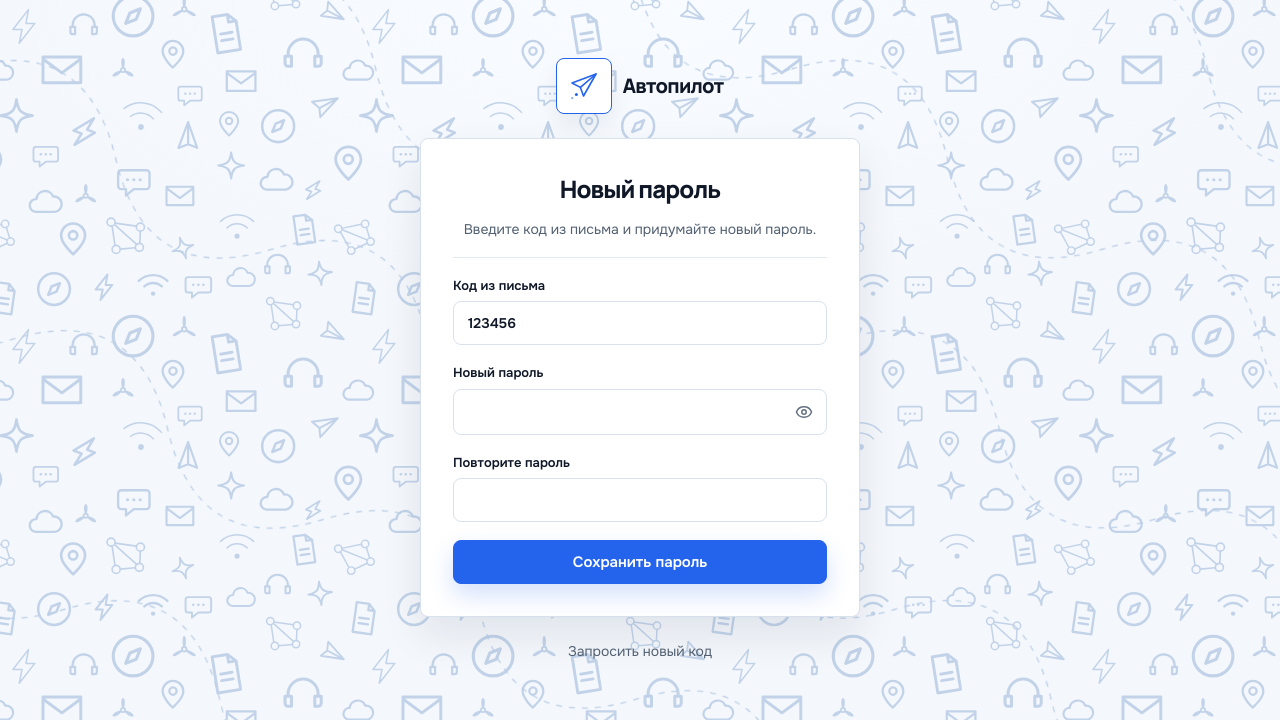
Test case: password reset pages › validates matching passwords and confirms the reset code
Expected: the field labelled "Код из письма" holds "123456", [453, 301, 827, 345]
Type "new-password" into the password field labelled "Новый пароль" at (620, 412), box [454, 390, 786, 434]
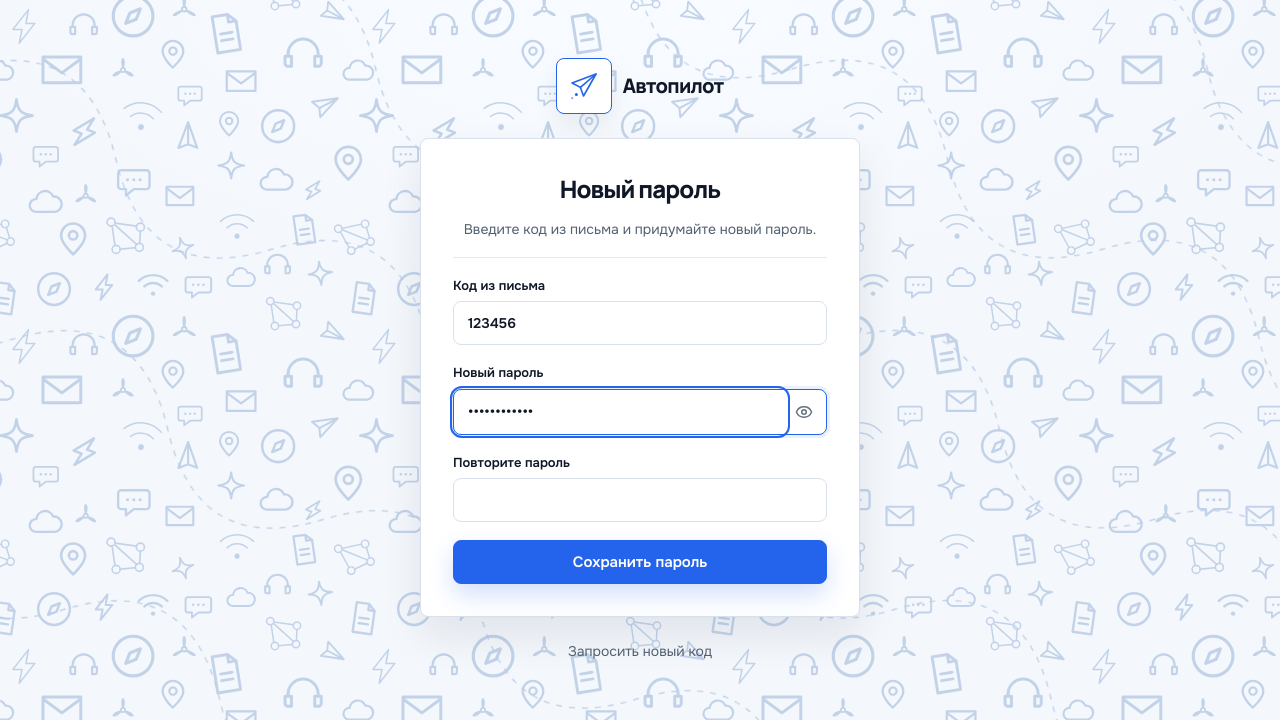
Type "new-password" into the password field labelled "Повторите пароль" at (640, 500), box [453, 478, 827, 522]
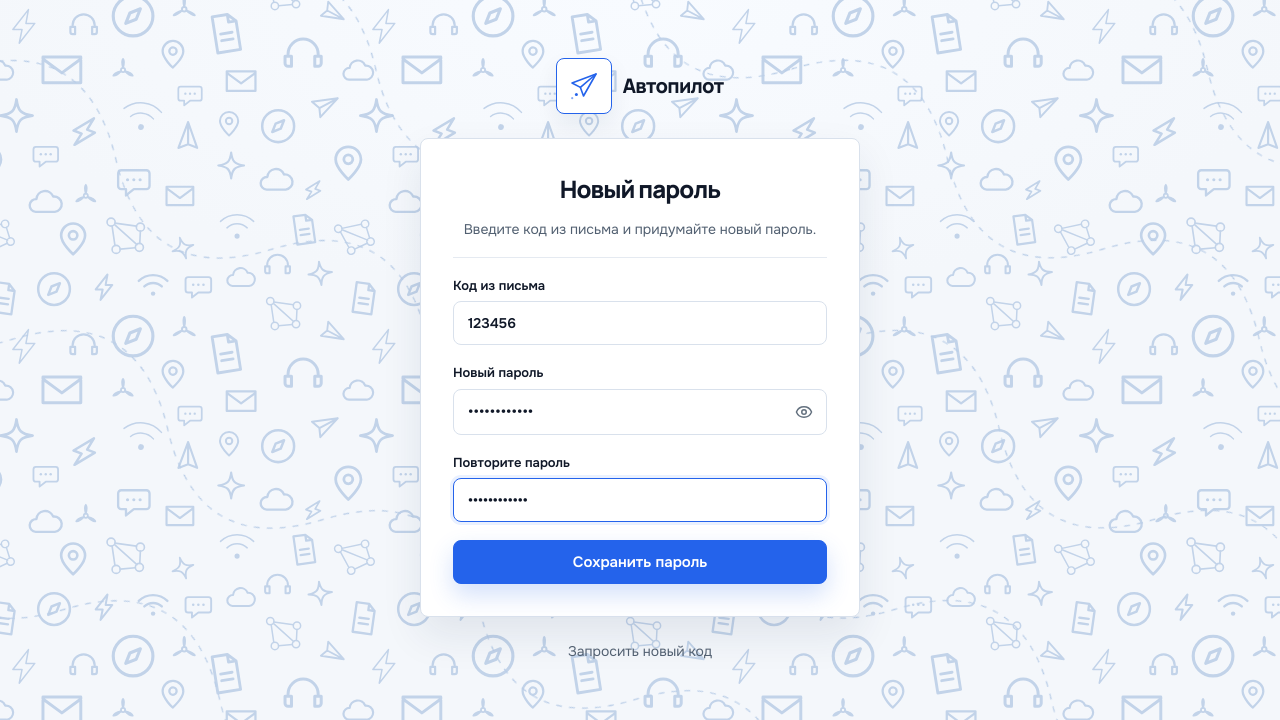
Click the button "Сохранить пароль" at (640, 562), box [453, 540, 827, 584]
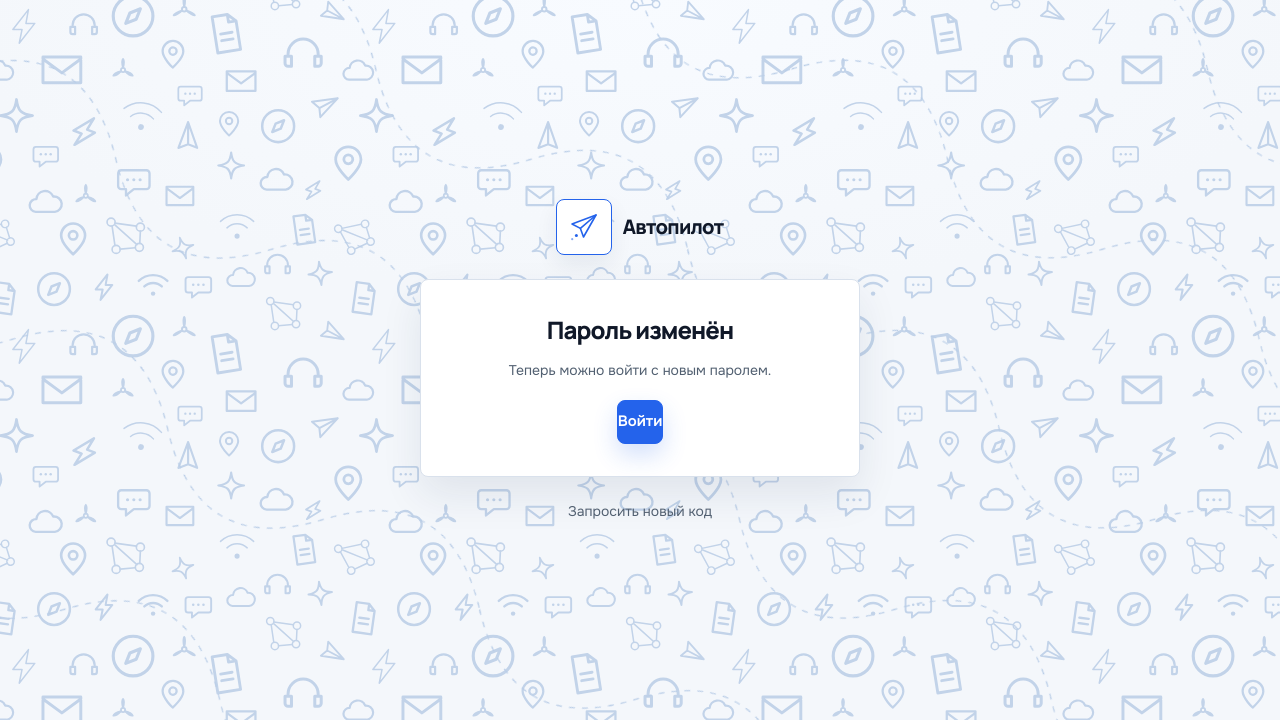
Now the message shows "Теперь можно войти", box [509, 360, 771, 378]
